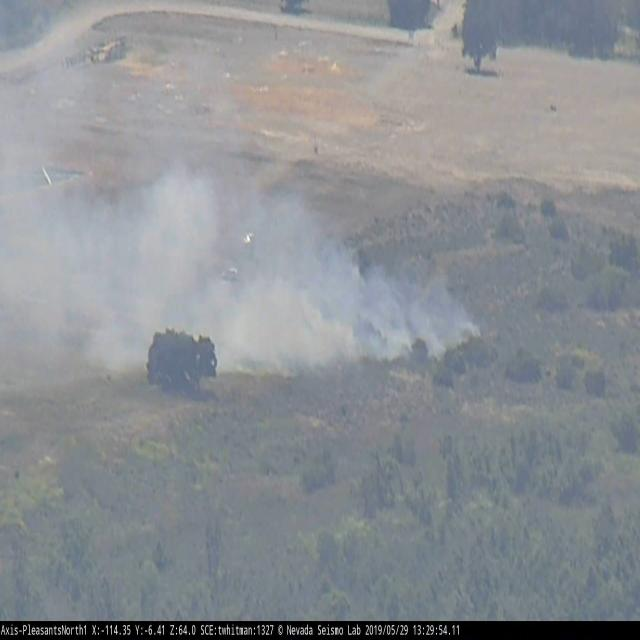smoke: (0, 59, 482, 378)
